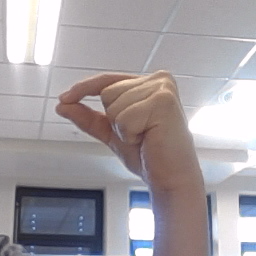S: (52, 68, 204, 186)
